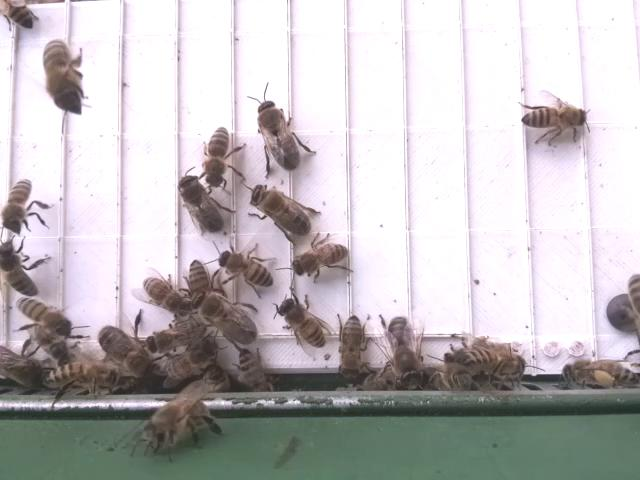Drone: (191, 286, 260, 346), (247, 182, 315, 239), (255, 96, 304, 175), (96, 322, 160, 382), (176, 172, 228, 235), (386, 314, 425, 386)
Worker: (139, 392, 229, 456), (273, 296, 331, 351), (217, 247, 278, 290), (140, 274, 197, 319), (334, 312, 372, 379), (0, 236, 39, 299), (14, 297, 72, 339), (44, 361, 121, 392), (290, 240, 351, 279), (0, 177, 38, 238), (454, 344, 525, 375), (144, 319, 208, 353), (202, 125, 234, 189), (519, 104, 591, 132), (187, 257, 211, 309)
